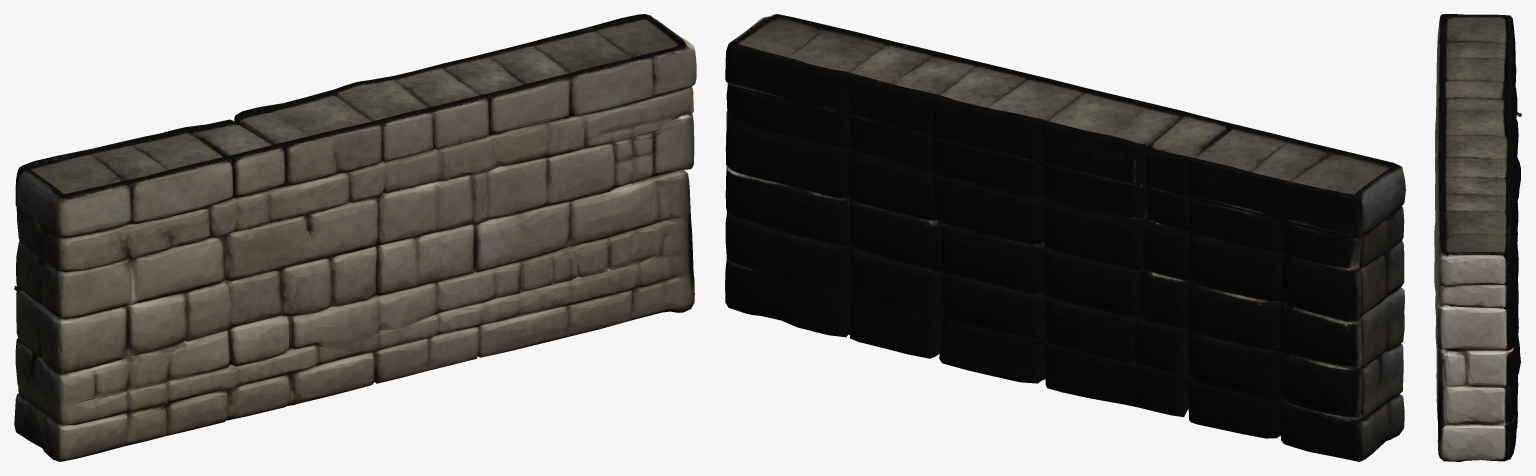
3 views of the same model, side by side, from view 1: azimuth 30°, elevation 25°; view 2: azimuth 150°, elevation 25°; view 3: azimuth 270°, elevation 25° (orthographic). The views are drawn at different scales.
Visible parts, largest first — view 1: world; view 2: world; view 3: world.
Boxes of the visible parts, x1,y1,x2,y2 form: world: (14, 14, 696, 461); world: (725, 14, 1405, 461); world: (1434, 14, 1521, 461).
Size of the model in its own units: 0.9995 by 0.3974 by 0.1507.
1 material, 1 textured.
